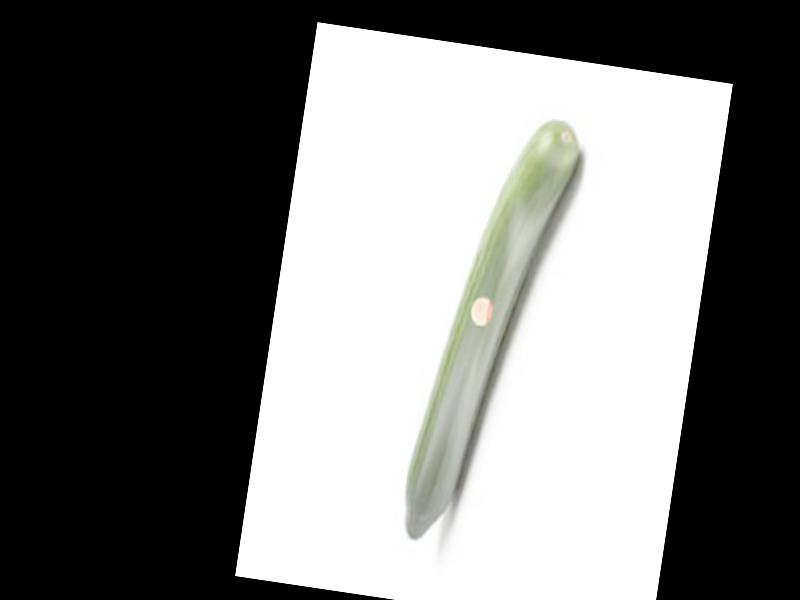Cucumber: (398, 103, 583, 555)
